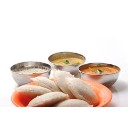idly: (67, 75, 101, 106), (27, 91, 69, 105), (34, 74, 59, 93), (54, 70, 74, 93), (61, 97, 91, 109)
